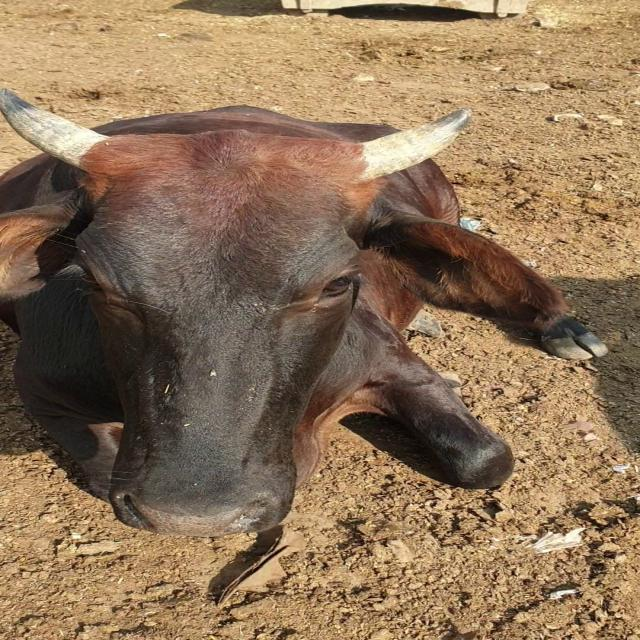cowFace: (79, 120, 354, 554)
